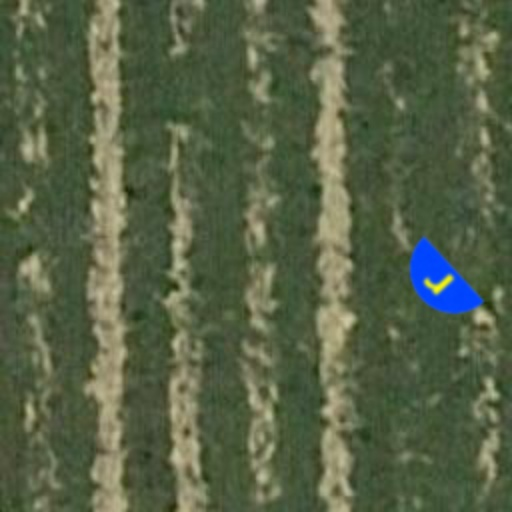semicircle: (374, 220, 502, 348)
